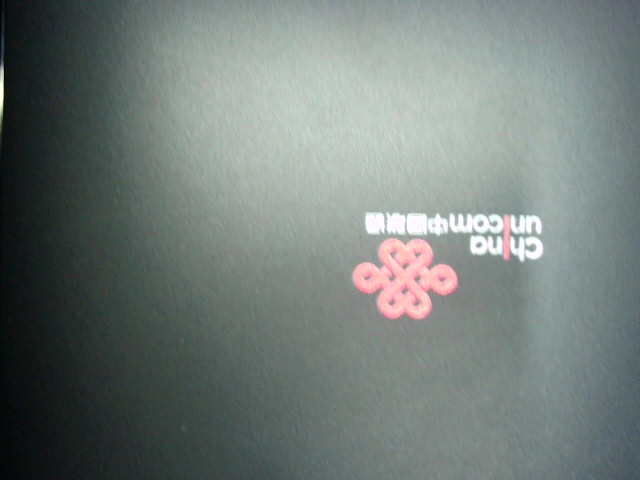AC_ChinaUnicom: (340, 193, 545, 322)
